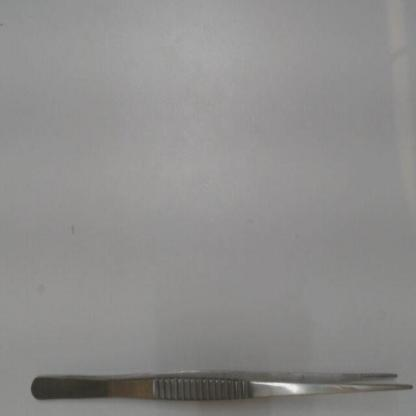DeBakey Dissector: (18, 356, 414, 413)
